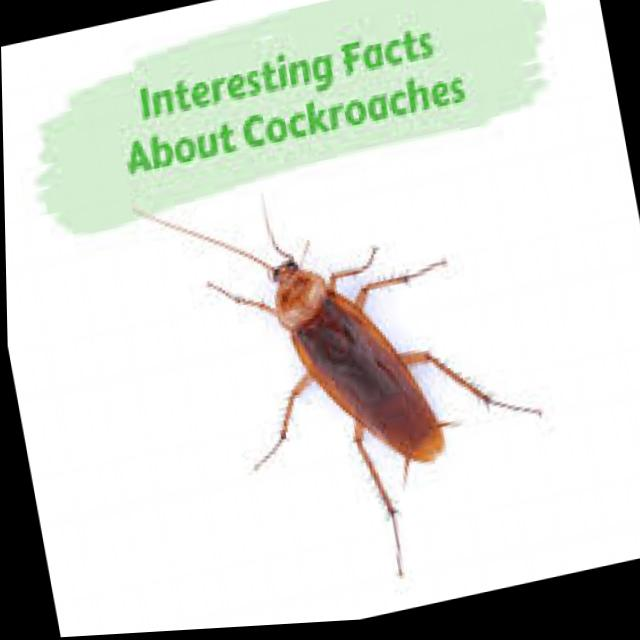Cockroach: (127, 128, 575, 634)
